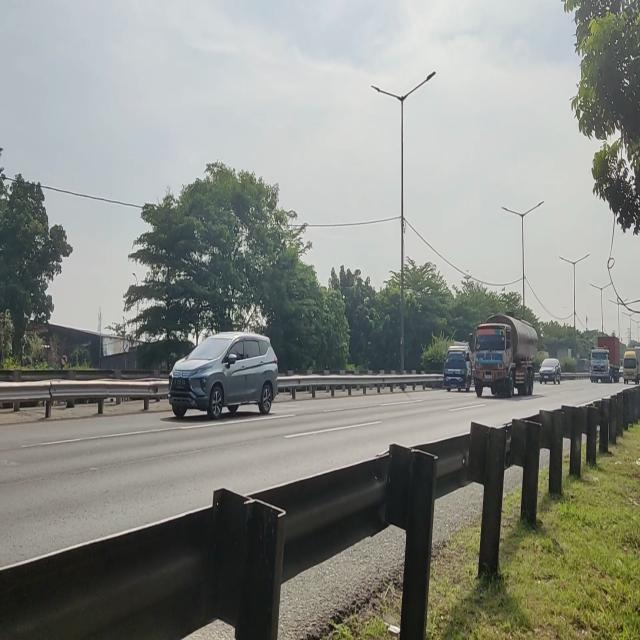Golongan I: (162, 321, 280, 424)
